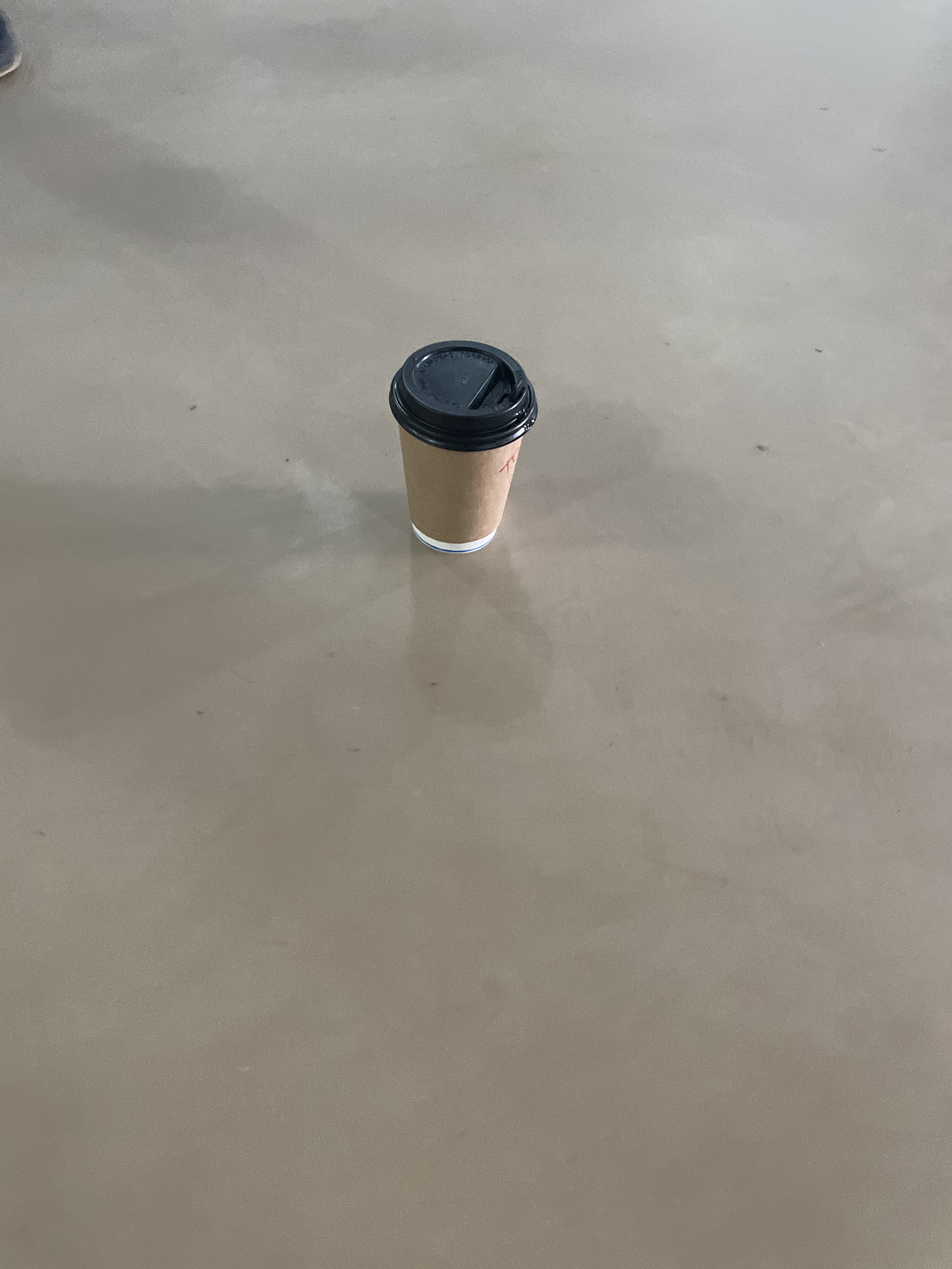cup: (389, 339, 539, 553)
